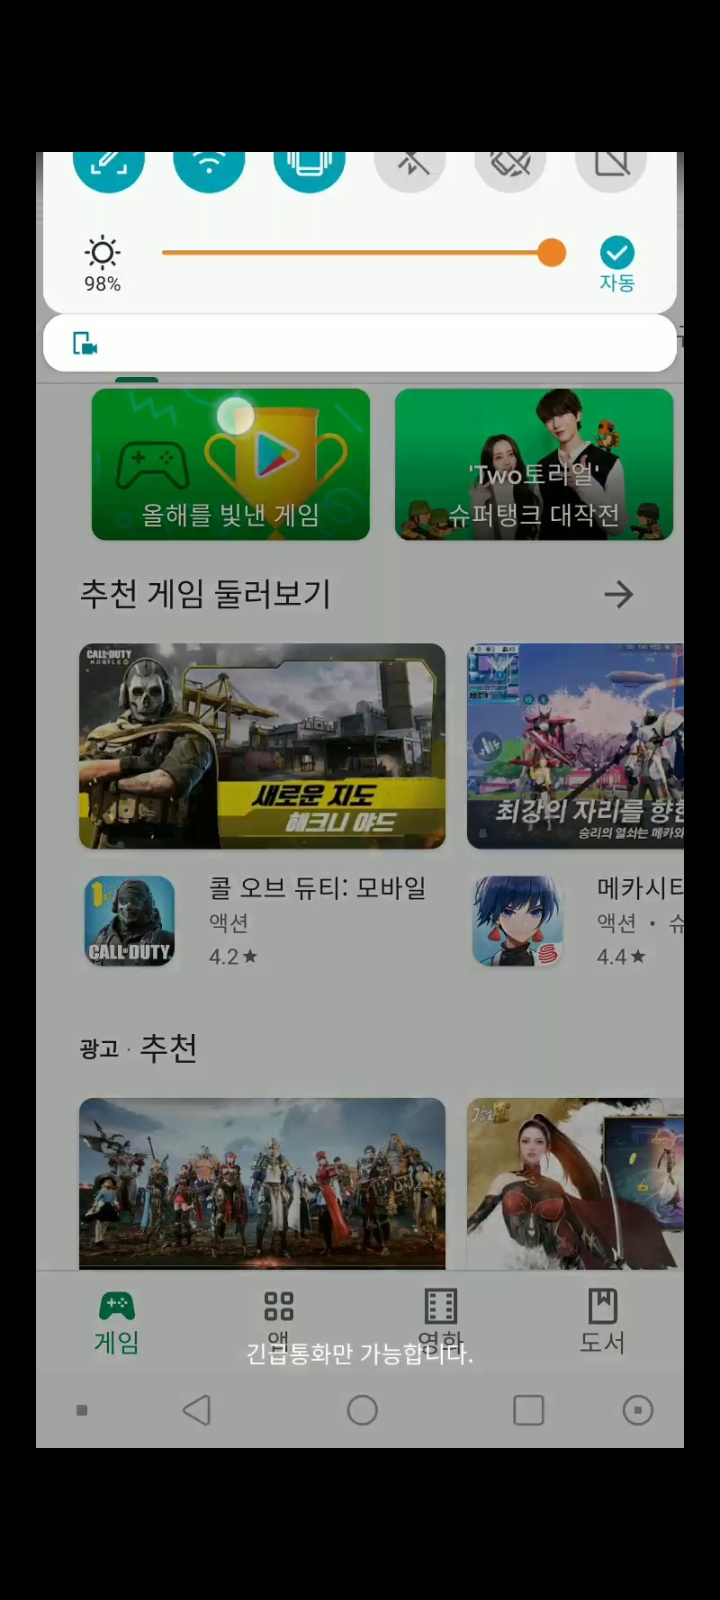Cursor: (213, 394, 258, 439)
